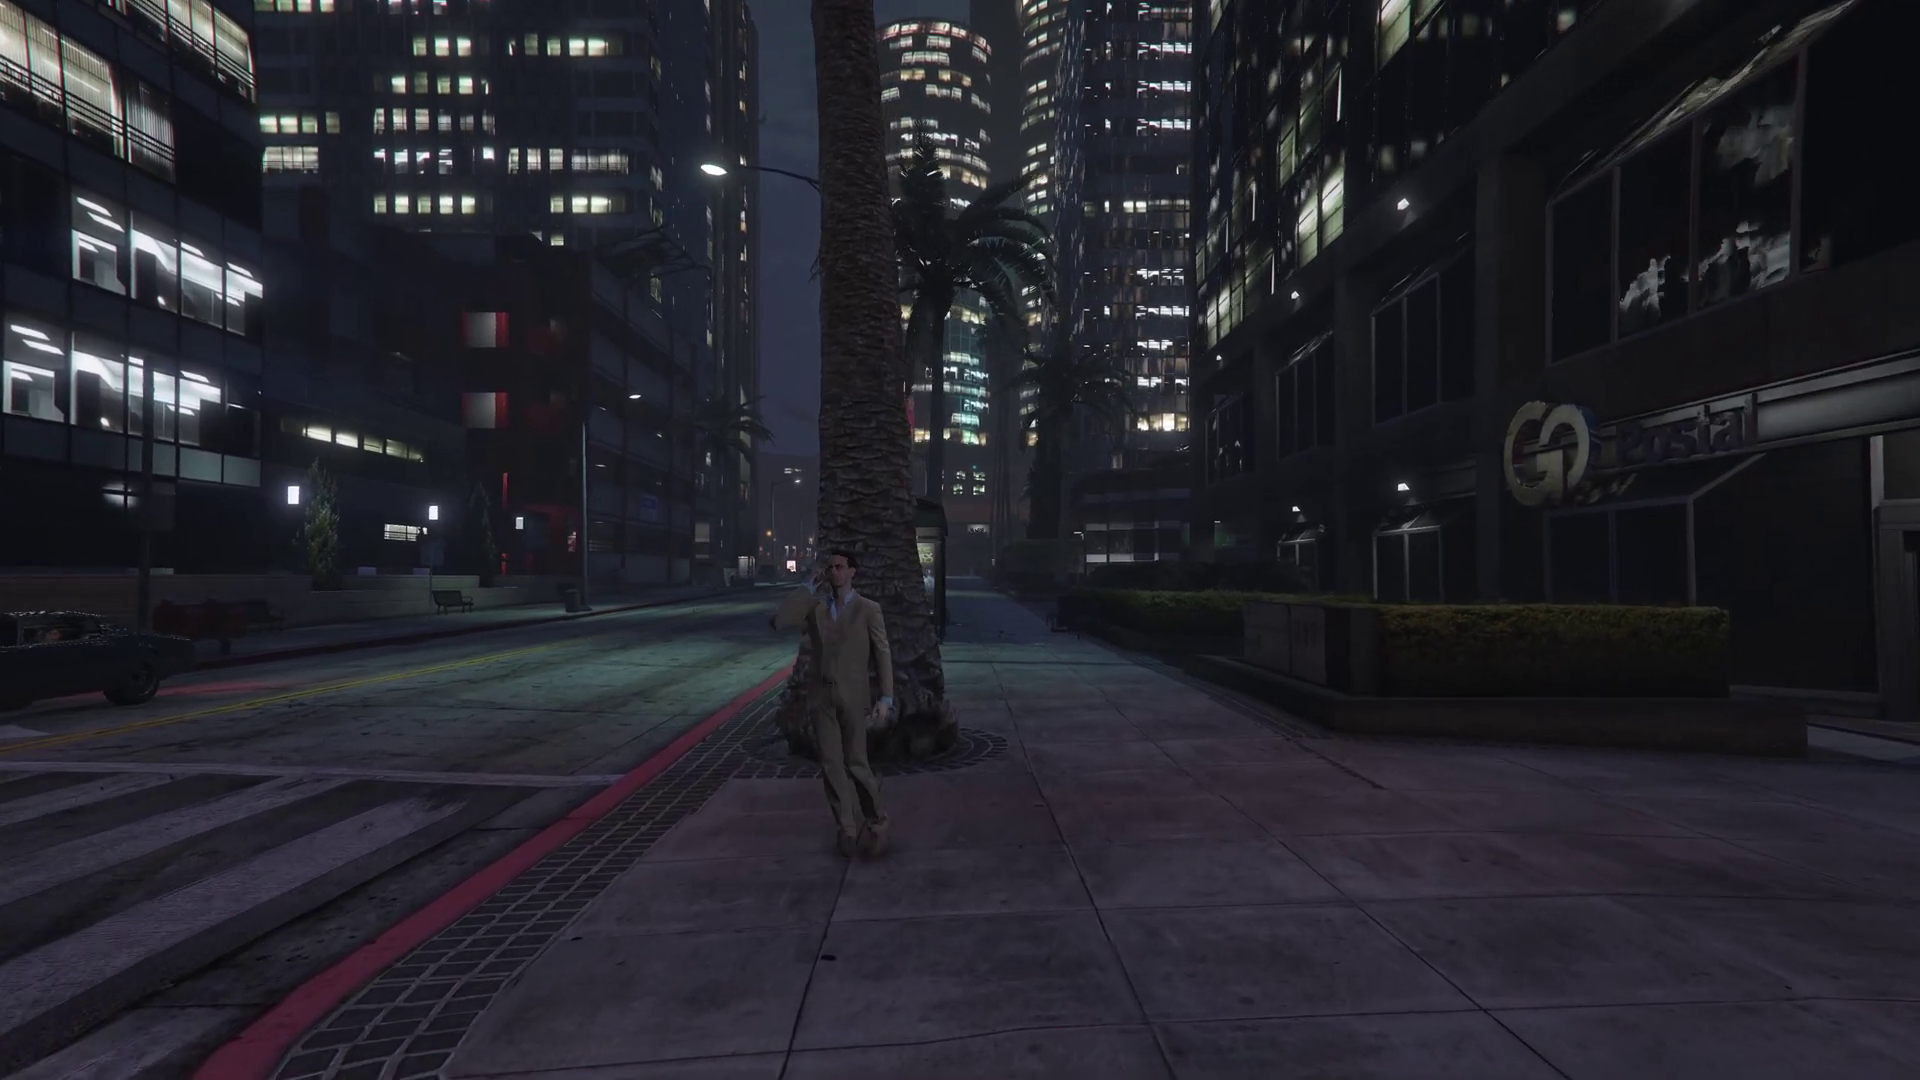car: (1, 610, 197, 716)
person: (767, 553, 896, 857)
